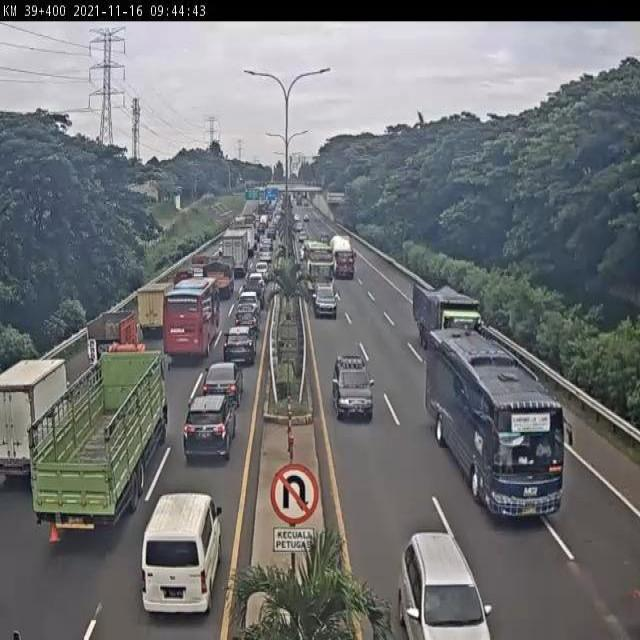big bus: (426, 328, 578, 535), (162, 274, 217, 354)
car: (400, 533, 493, 640), (180, 396, 235, 464), (332, 357, 377, 423), (203, 364, 244, 405), (221, 329, 253, 368), (312, 276, 337, 312), (232, 308, 259, 335), (236, 288, 261, 316)
small bus: (139, 493, 222, 612)
small truck: (132, 285, 170, 344)
truck-l-: (32, 349, 167, 536), (411, 279, 485, 356)
truck-m-: (0, 357, 73, 484), (87, 316, 142, 367), (198, 258, 234, 298)
